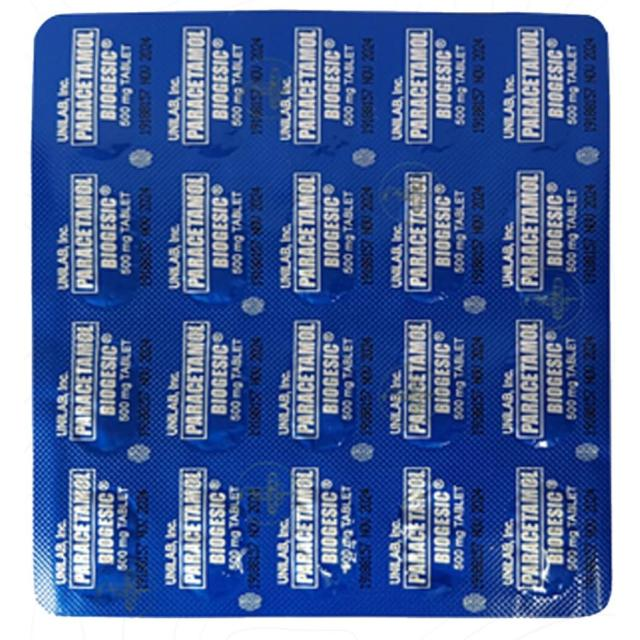blister: (30, 3, 619, 623)
